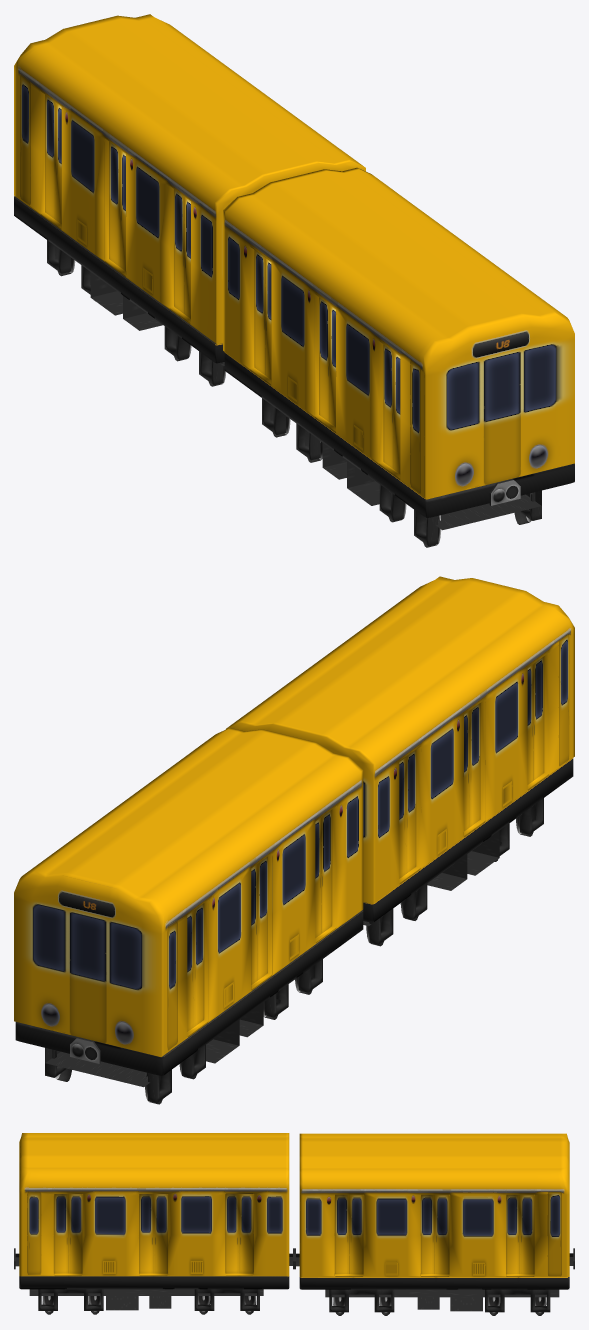
Rendered from ubahn_shorter.glb.
The picture shows the model from 3 angles, top to bottom: view 1: azimuth 30°, elevation 25°; view 2: azimuth 150°, elevation 25°; view 3: azimuth 270°, elevation 25°; orthographic projection. The views are drawn at different scales.
Parts seen in each view (by area): view 1: Object_2.001; view 2: Object_2.001; view 3: Object_2.001.
Boxes of the visible parts, box(x1,y1,x2,y2) form: Object_2.001: box(14, 14, 574, 547); Object_2.001: box(14, 576, 574, 1104); Object_2.001: box(14, 1133, 574, 1315).
Bounding box in the file's own units: 7.81 × 11.19 × 37.94.
Materials: 1 (1 with a texture image).
